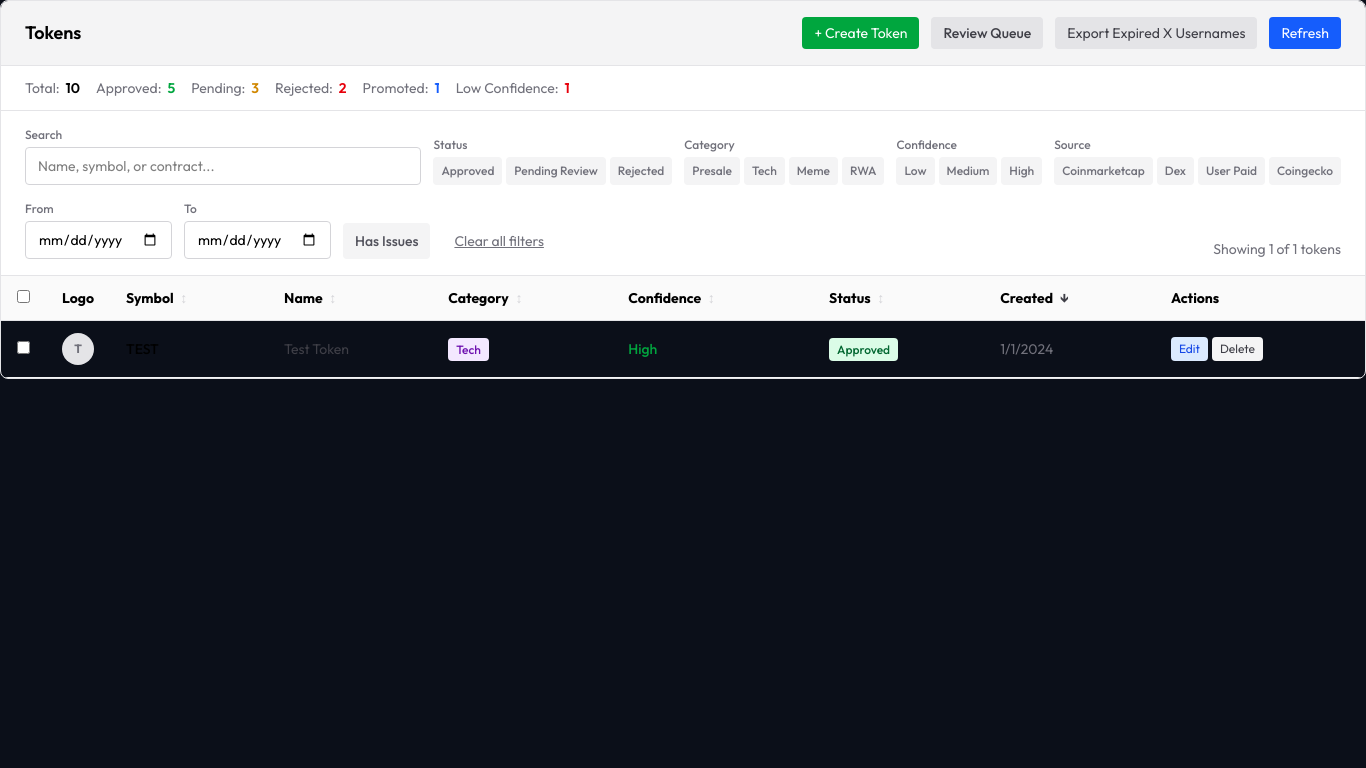
Test: TokensSection › exports twitter usernames of recently expired tokens as csv
Expected: the text "TEST" is shown, [110,320,268,378]
Click the button "Export Expired X Usernames" at x=1156, y=33, box [1055,17,1257,49]
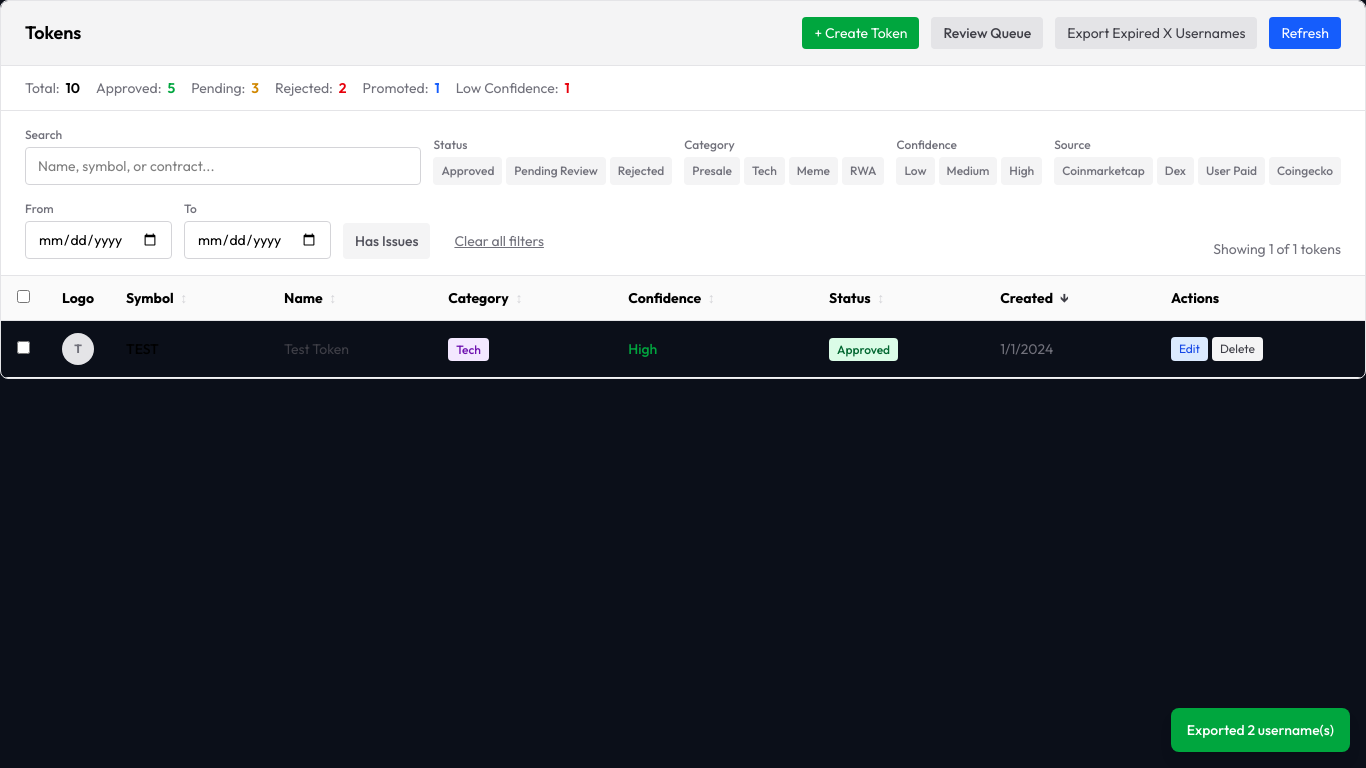
Now the text "Exported 2 username(s)" is shown, box [1171,708,1350,752]
